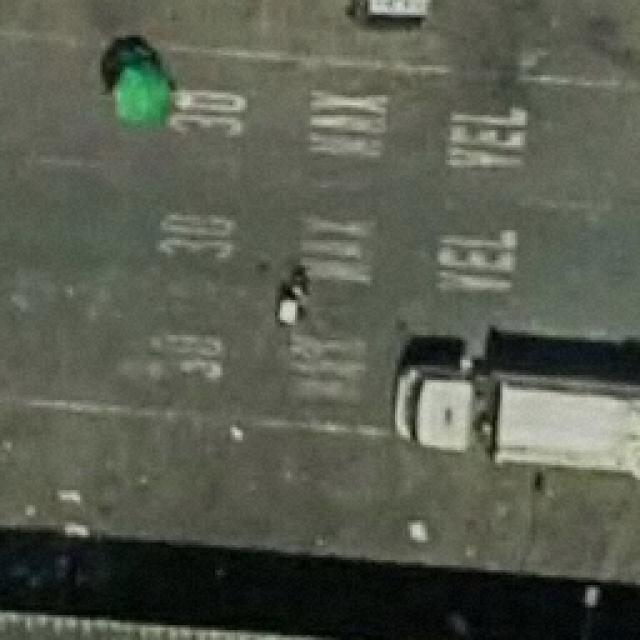vendedor_ambulante: (100, 54, 182, 136)
